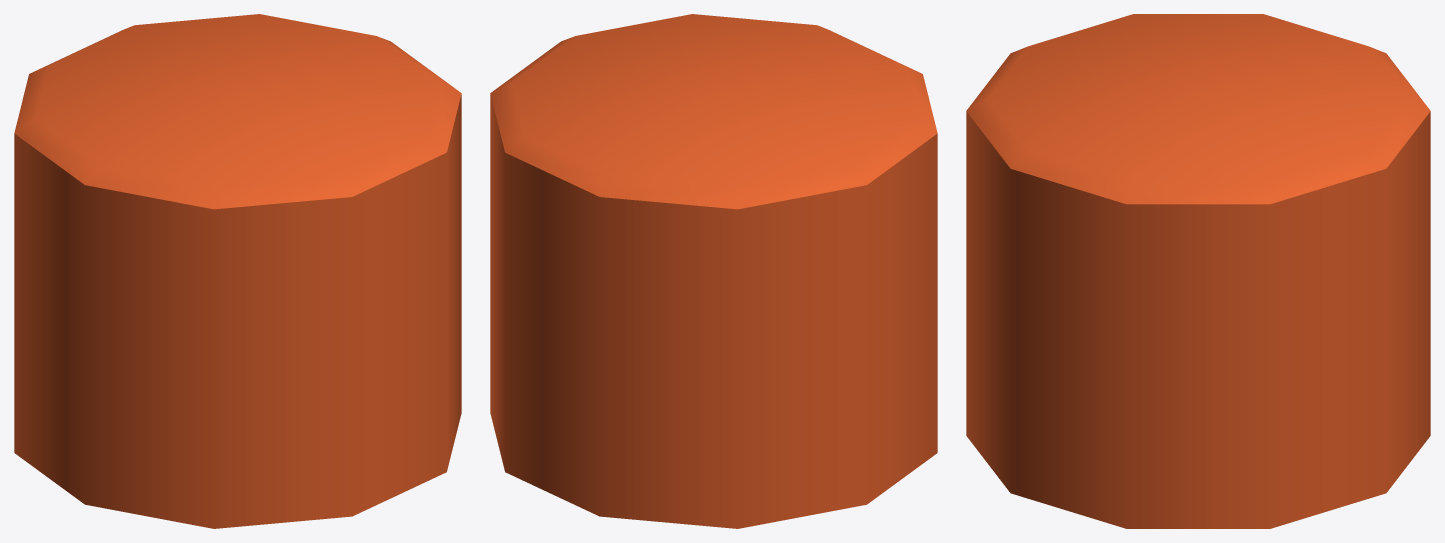
File: spraycan_lid.fbx
3 renders of one model, left to right at view 1: azimuth 30°, elevation 25°; view 2: azimuth 150°, elevation 25°; view 3: azimuth 270°, elevation 25°, orthographic.
Parts seen in each view (by area): view 1: Lid; view 2: Lid; view 3: Lid.
Part boxes in pixels (<box>): Lid: <box>14,14,461,528</box>; Lid: <box>490,14,937,528</box>; Lid: <box>966,14,1430,528</box>.
Size of the model in its own units: 0.0681 by 0.0587 by 0.0716.
